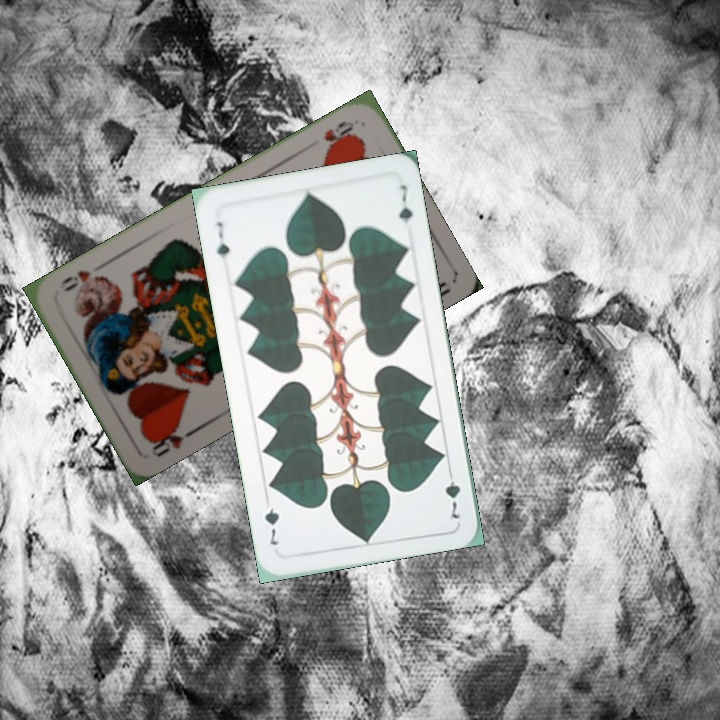G7: (441, 463, 463, 522), (212, 217, 232, 261)
HO: (145, 421, 201, 460), (320, 116, 359, 153)
